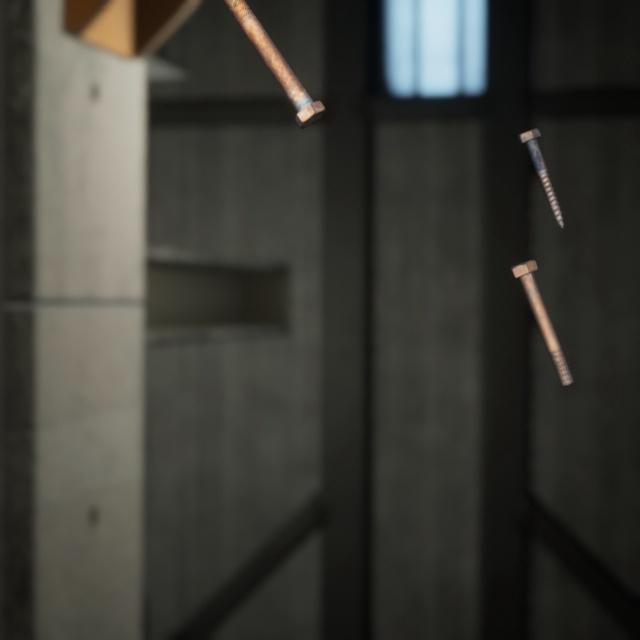bolt: (225, 0, 329, 121), (504, 237, 578, 373), (512, 109, 568, 218)
